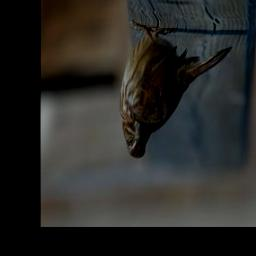Sparrow: (119, 22, 232, 159)
